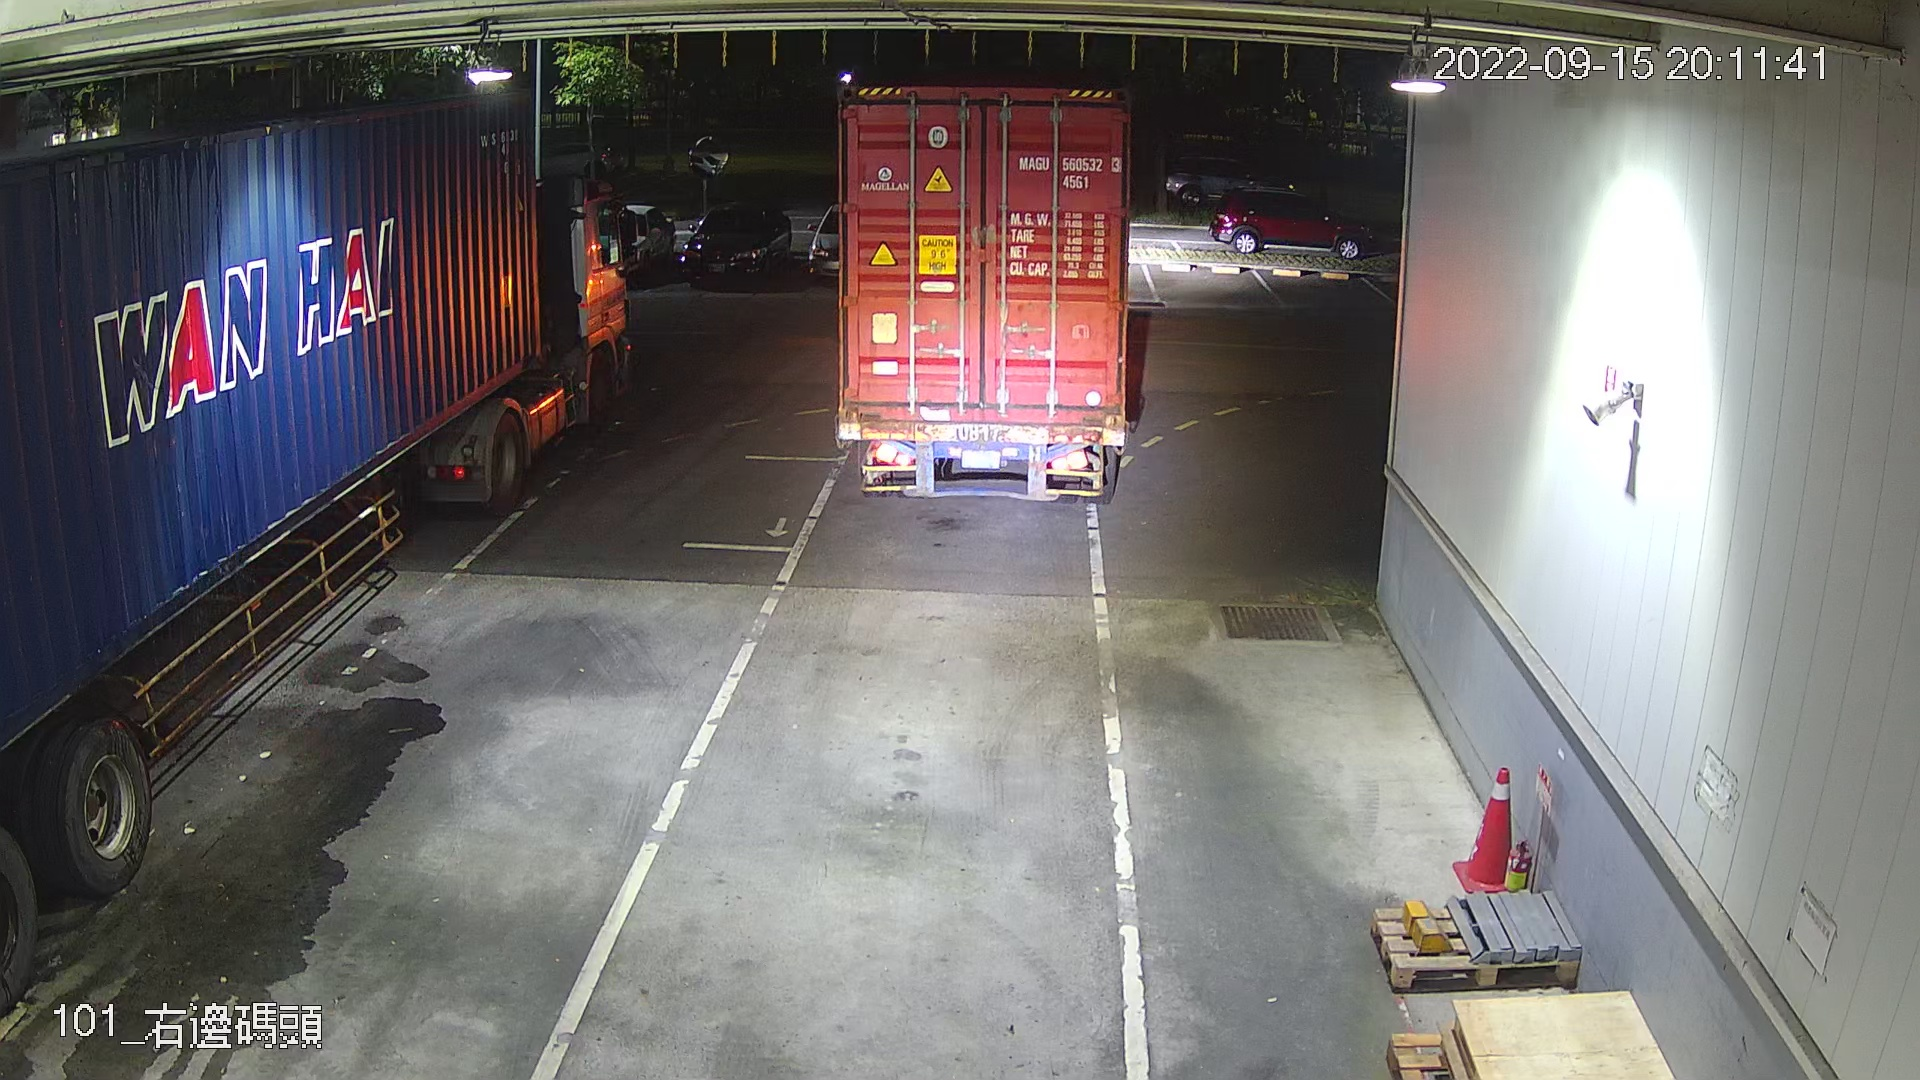container: (1011, 145, 1124, 196)
